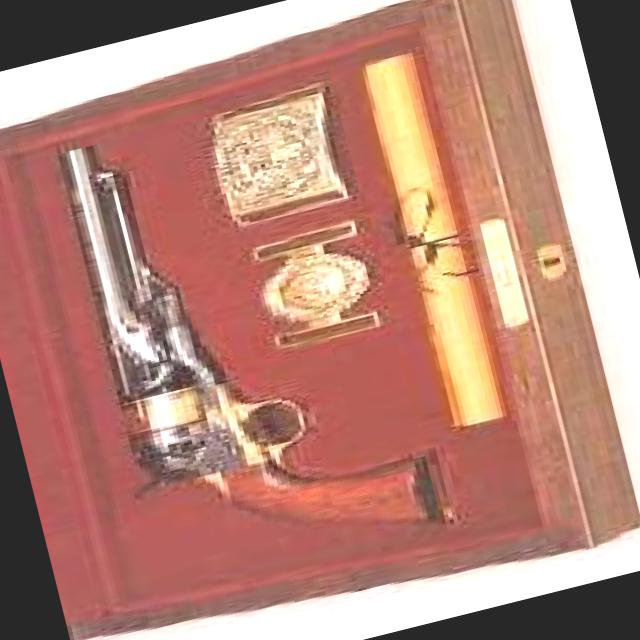handgun: (25, 78, 450, 601)
